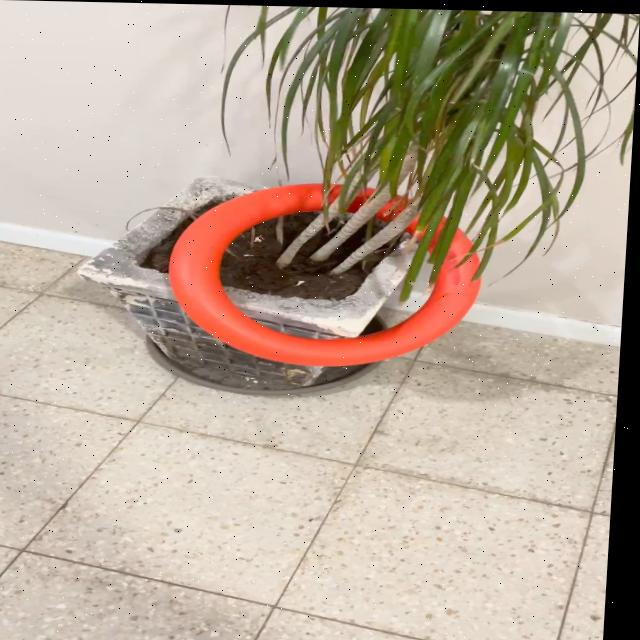note: (163, 177, 493, 370)
